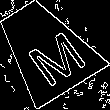M_NW: (9, 15, 81, 83)
